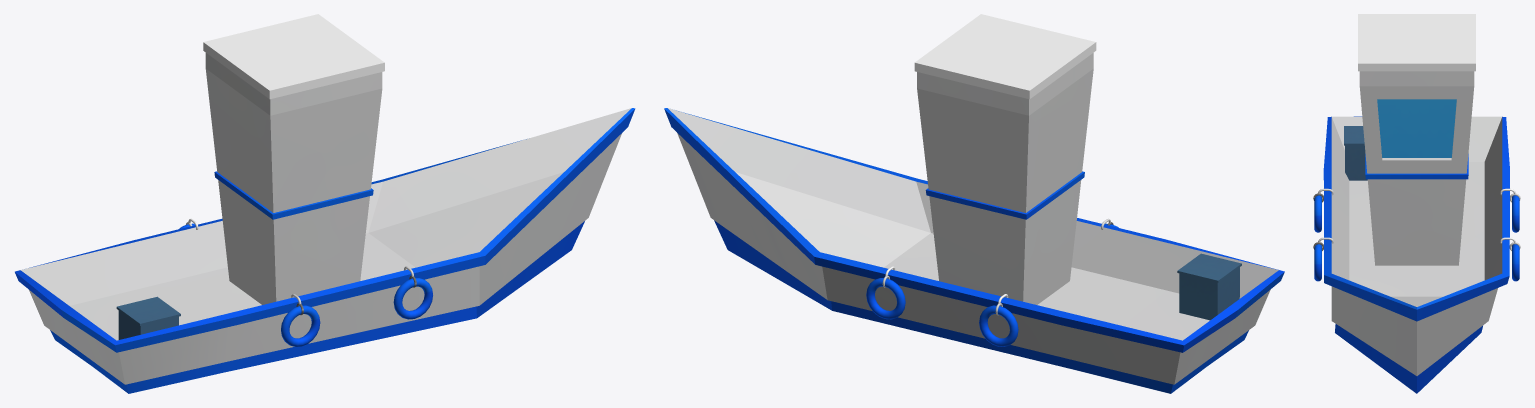
Rendered from Boat.fbx.
3 views of the same model, side by side, from view 1: azimuth 30°, elevation 25°; view 2: azimuth 150°, elevation 25°; view 3: azimuth 270°, elevation 25° (orthographic). The views are drawn at different scales.
Visible parts, largest first — view 1: pCube18; view 2: pCube18; view 3: pCube18.
Boxes of the visible parts, bbox=[...] form: pCube18: bbox=[15, 14, 635, 393]; pCube18: bbox=[664, 14, 1284, 393]; pCube18: bbox=[1313, 14, 1520, 393].
Size of the model in its own units: 2319 by 1024 by 819.
Materials: 1 (1 with a texture image).
